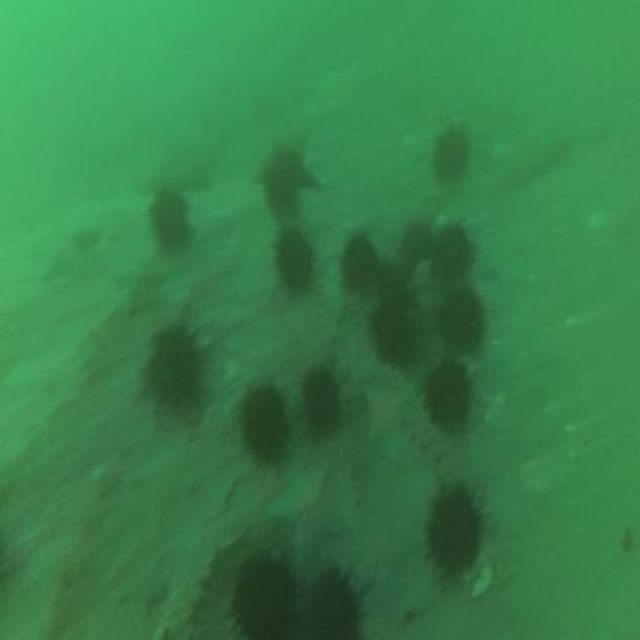echinus: (145, 330, 200, 414), (235, 564, 292, 640), (428, 486, 478, 570), (313, 570, 359, 640), (436, 290, 484, 356), (425, 362, 469, 434), (241, 387, 285, 458), (264, 150, 305, 218), (300, 366, 340, 434), (373, 303, 415, 365), (428, 223, 473, 276), (150, 194, 188, 252), (277, 232, 313, 291), (342, 234, 374, 292), (434, 133, 469, 177), (378, 256, 407, 307), (398, 223, 431, 267)
holothurian: (390, 382, 460, 483), (495, 128, 571, 190), (321, 231, 342, 335)
starfish: (270, 463, 344, 556), (362, 386, 402, 436)
